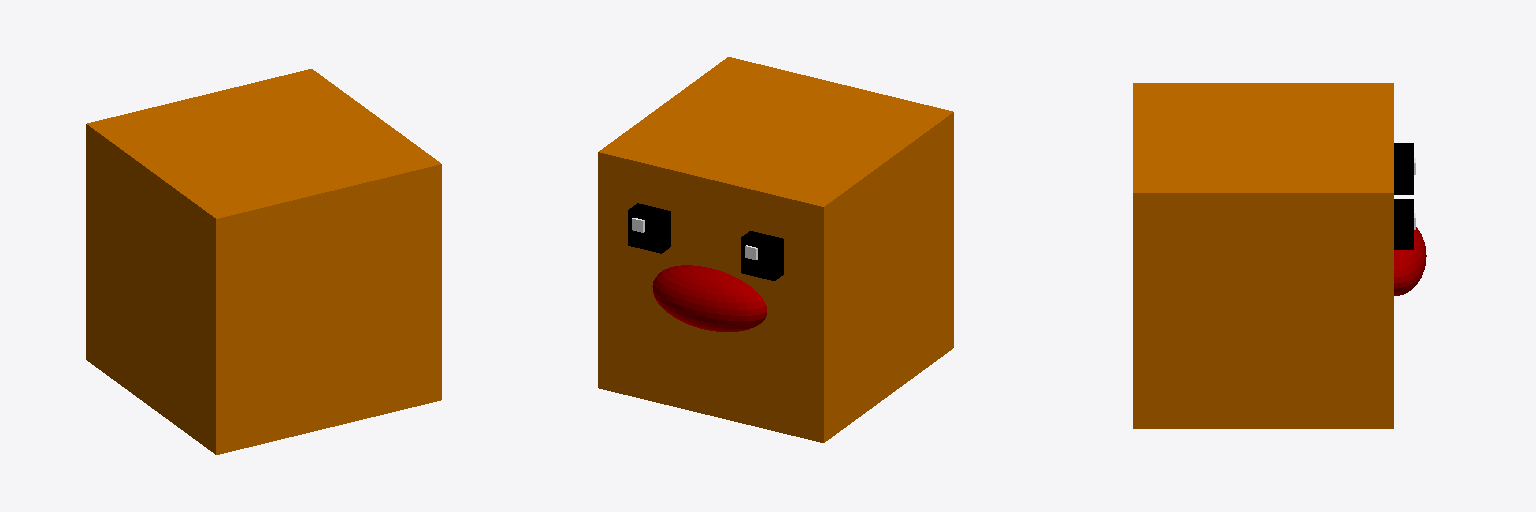
3 views of the same model, side by side, from view 1: azimuth 30°, elevation 25°; view 2: azimuth 150°, elevation 25°; view 3: azimuth 270°, elevation 25° (orthographic).
Visible parts, largest first — view 1: 円錐.006; view 2: 円錐.006; view 3: 円錐.006.
Part boxes in pixels (left/top/right/bottom): 円錐.006: left=86, top=69, right=441, bottom=454; 円錐.006: left=598, top=57, right=953, bottom=442; 円錐.006: left=1133, top=83, right=1426, bottom=428.
Size of the model in its own units: 2 by 2 by 2.25.
Materials: 1 (1 with a texture image).